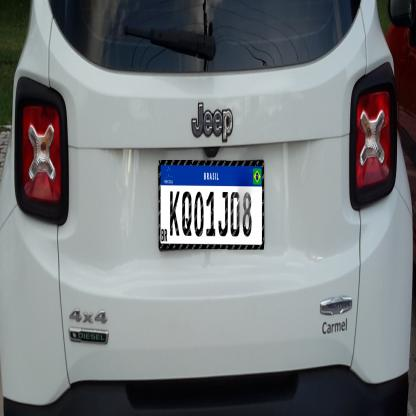PlacaM: (159, 160, 264, 250)
